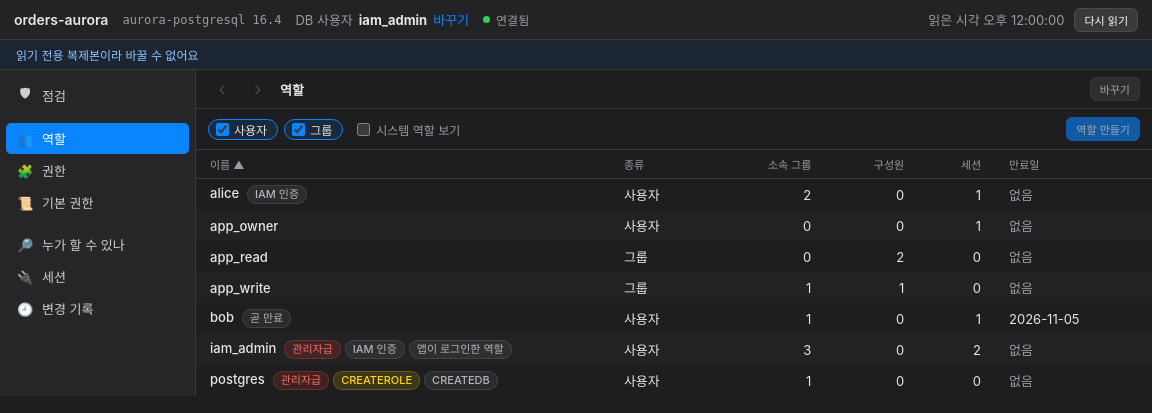
Scenario: 세션 끊기 › is off on a read replica with the reason
The width and height of the screenshot is (1152, 413).
Click the button "🔌 세션". click: click(98, 276)
box: [6,261,189,292]
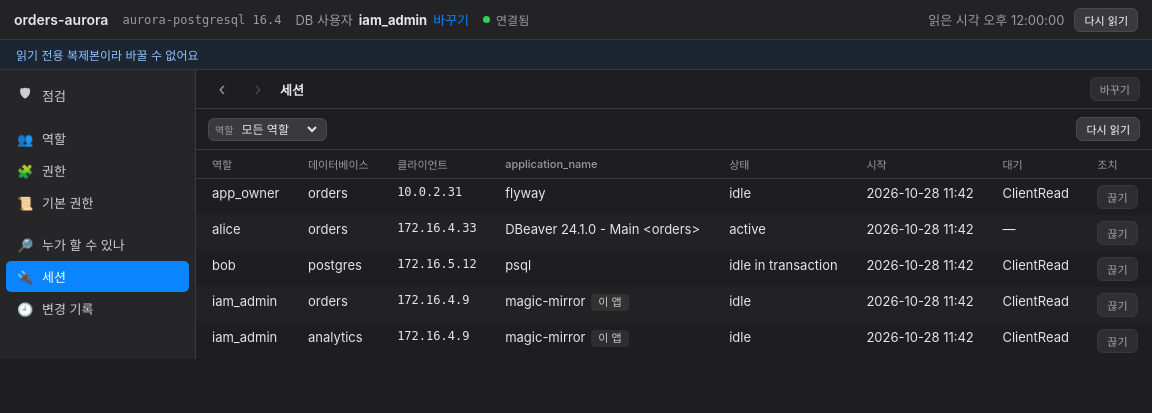
Now the table named "세션 목록" is shown, box [196,150,1151,359]
Now the button "끊기" in the row of "app_owner" is disabled, box [1097,185,1138,209]
Now the button "끊기" in the row of "alice" is disabled, box [1097,221,1138,245]
